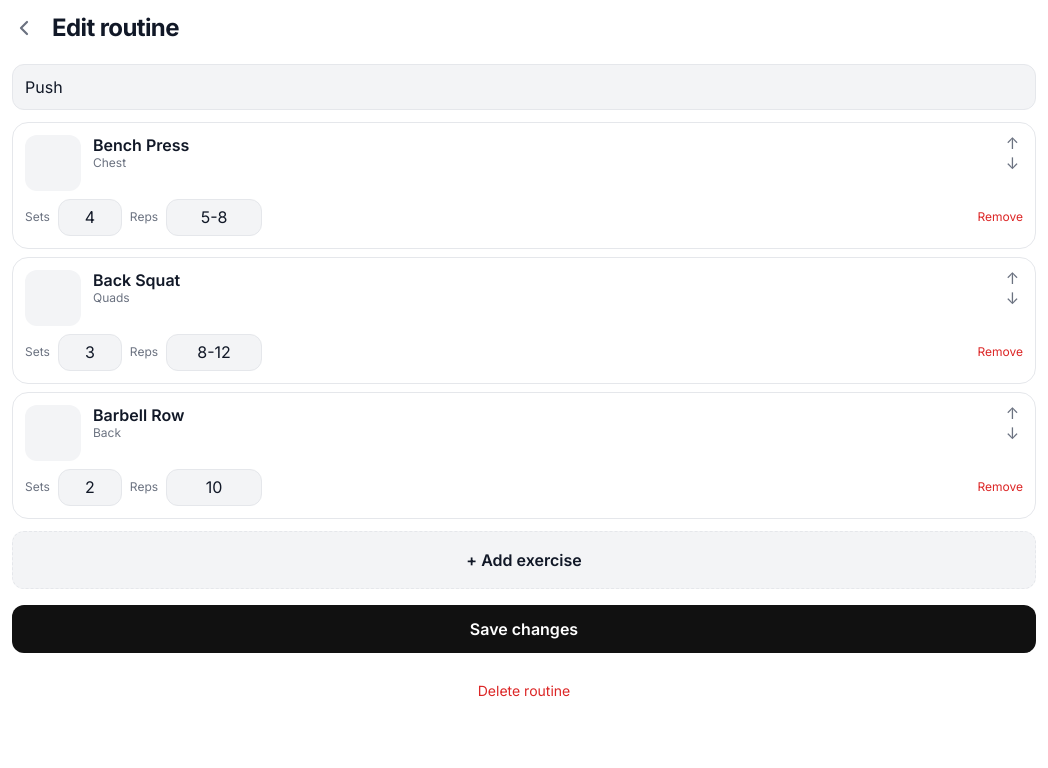
Scenario: RoutineEditor: reorder › moves a row down and up, carrying its targets with it
Click the button named "Move down".
click(1012, 163)  # box left=1002, top=155, right=1023, bottom=171
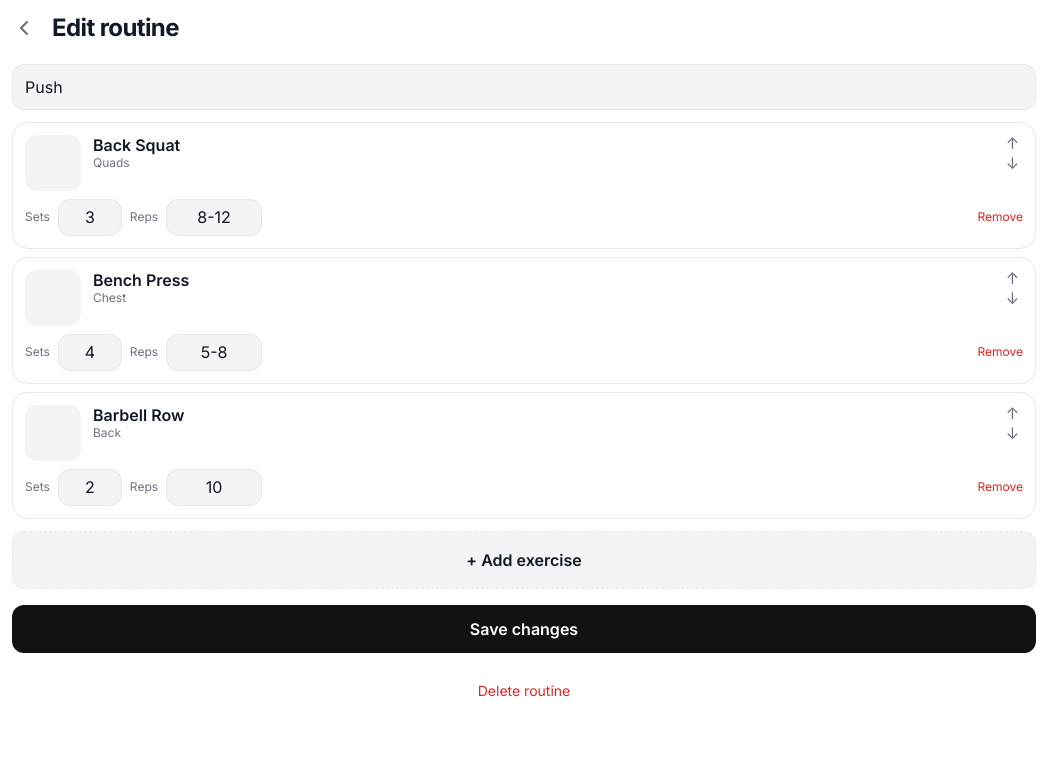
Result: the 4th field holds "4" at left=58, top=334, right=122, bottom=371
Result: the 5th field holds "5-8" at left=166, top=334, right=262, bottom=371
Click the button named "Move up".
click(1012, 413)  # box left=1002, top=405, right=1023, bottom=421
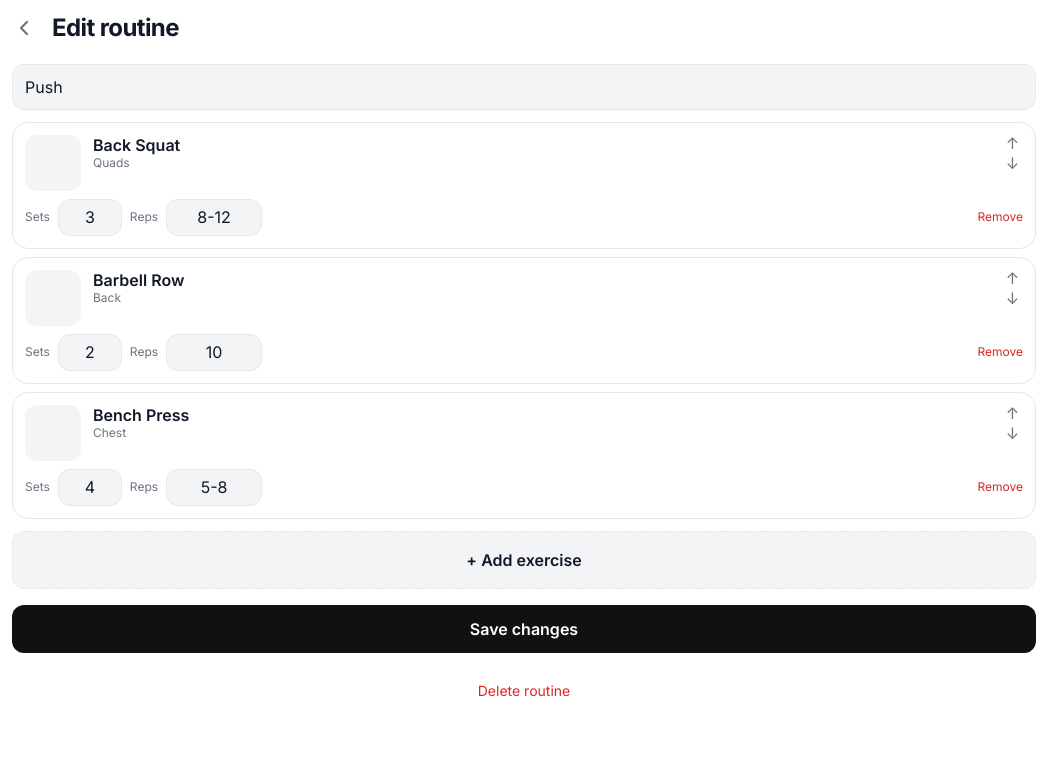
Result: the 5th field holds "10" at left=166, top=334, right=262, bottom=371
